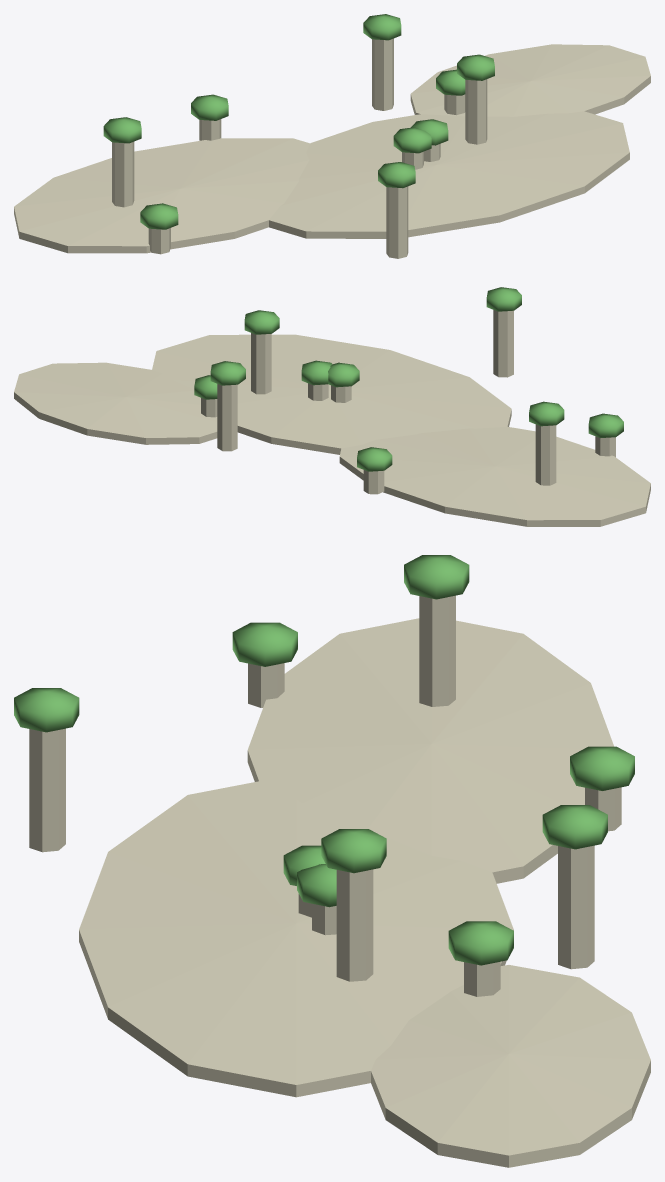
File: carbonate_colony_a.obj
The picture shows the model from 3 angles, top to bottom: view 1: azimuth 30°, elevation 25°; view 2: azimuth 150°, elevation 25°; view 3: azimuth 270°, elevation 25°; orthographic projection. The views are drawn at different scales.
Parts seen in each view (by area): view 1: carbonate_colony_a; view 2: carbonate_colony_a; view 3: carbonate_colony_a.
Part boxes in pixels (left/top/right/bottom): carbonate_colony_a: left=14, top=14, right=650, bottom=258; carbonate_colony_a: left=14, top=287, right=650, bottom=526; carbonate_colony_a: left=14, top=555, right=650, bottom=1167.
Size of the model in its own units: 6.61 by 0.93 by 3.3.
